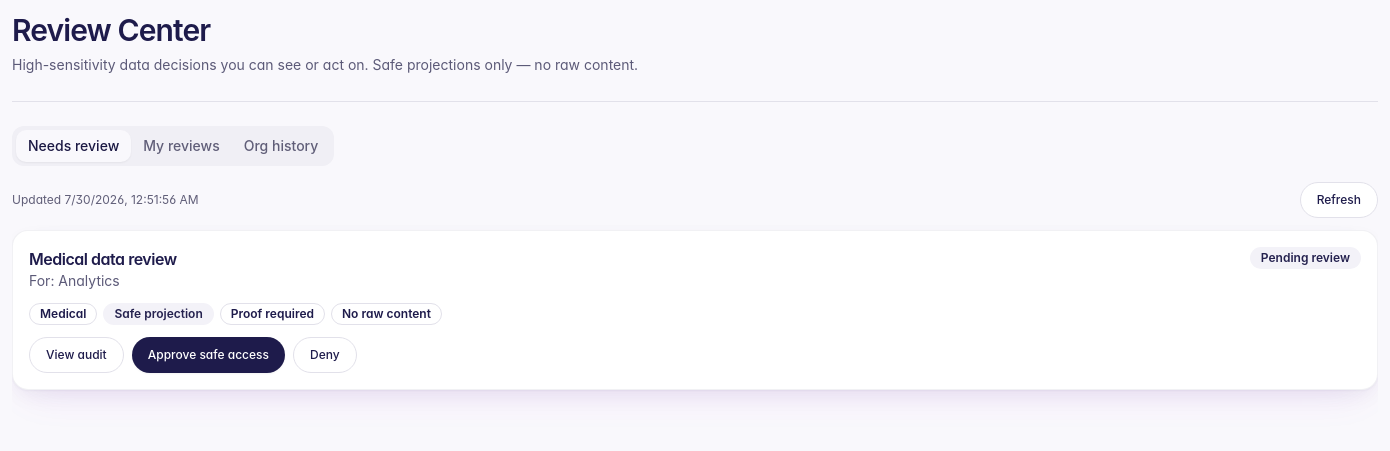
Test: Review Center — action authority (visibility is NOT approval) › a 403 approval denial shows a safe blocked reason
The image size is (1390, 451).
Click the button with test id "review-approve": coordinates (208, 355) x1=132 y1=337 x2=285 y2=373
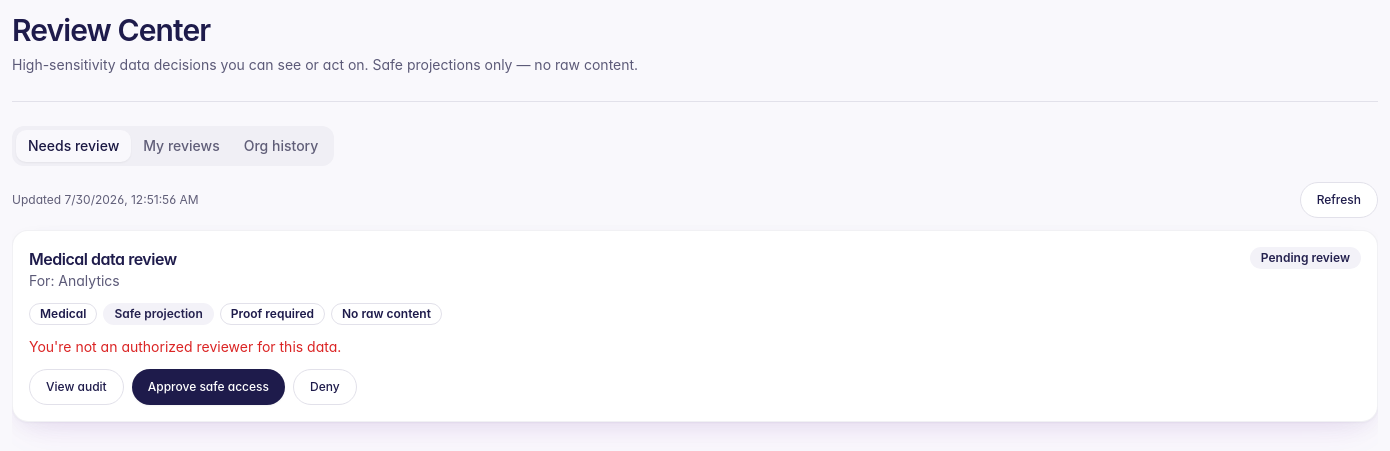
Now the text with test id "review-blocked-reason" shows "not an authorized reviewer", box x1=29 y1=338 x2=341 y2=355
